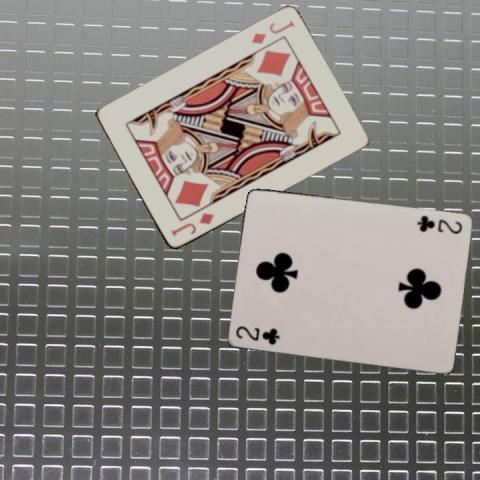2c: (415, 212, 464, 235), (233, 323, 281, 346)
Jd: (168, 210, 216, 239), (248, 18, 296, 46)
